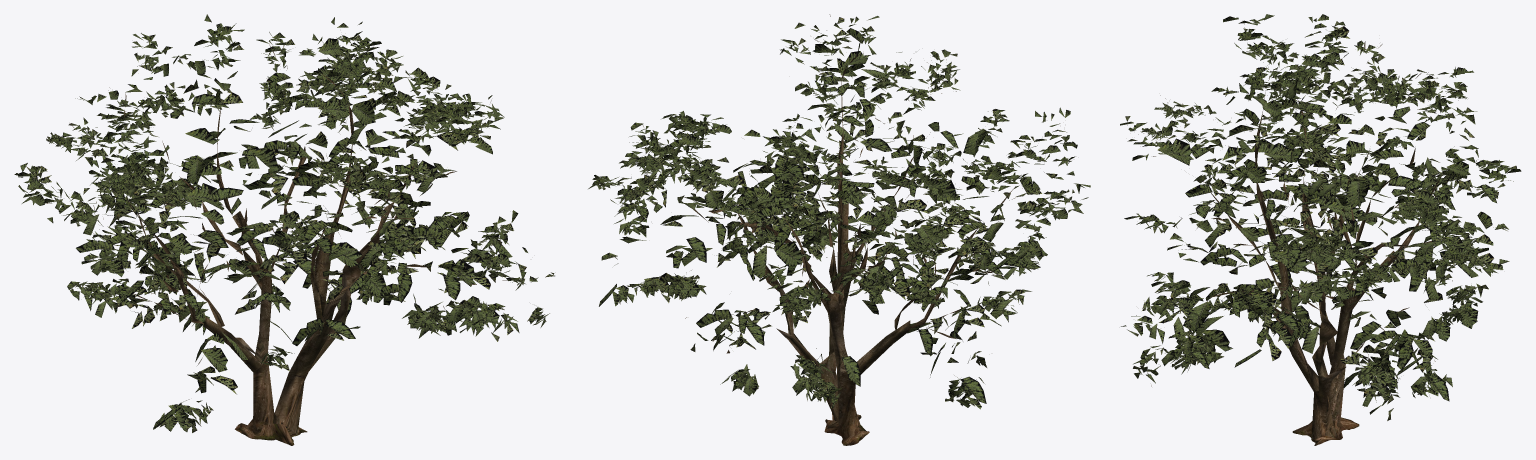
The model's file is jacaranda_tree_far.glb.
3 renders of one model, left to right at view 1: azimuth 30°, elevation 25°; view 2: azimuth 150°, elevation 25°; view 3: azimuth 270°, elevation 25°, orthographic. The views are drawn at different scales.
Parts seen in each view (by area): view 1: jacaranda_tree_LOD0; view 2: jacaranda_tree_LOD0; view 3: jacaranda_tree_LOD0.
Part boxes in pixels (box(x1,y1,x2,y2)): jacaranda_tree_LOD0: box(14, 14, 554, 445); jacaranda_tree_LOD0: box(588, 14, 1090, 445); jacaranda_tree_LOD0: box(1120, 14, 1521, 445).
Size of the model in its own units: 24.04 by 19.52 by 18.36.
3 materials, 3 textured.
